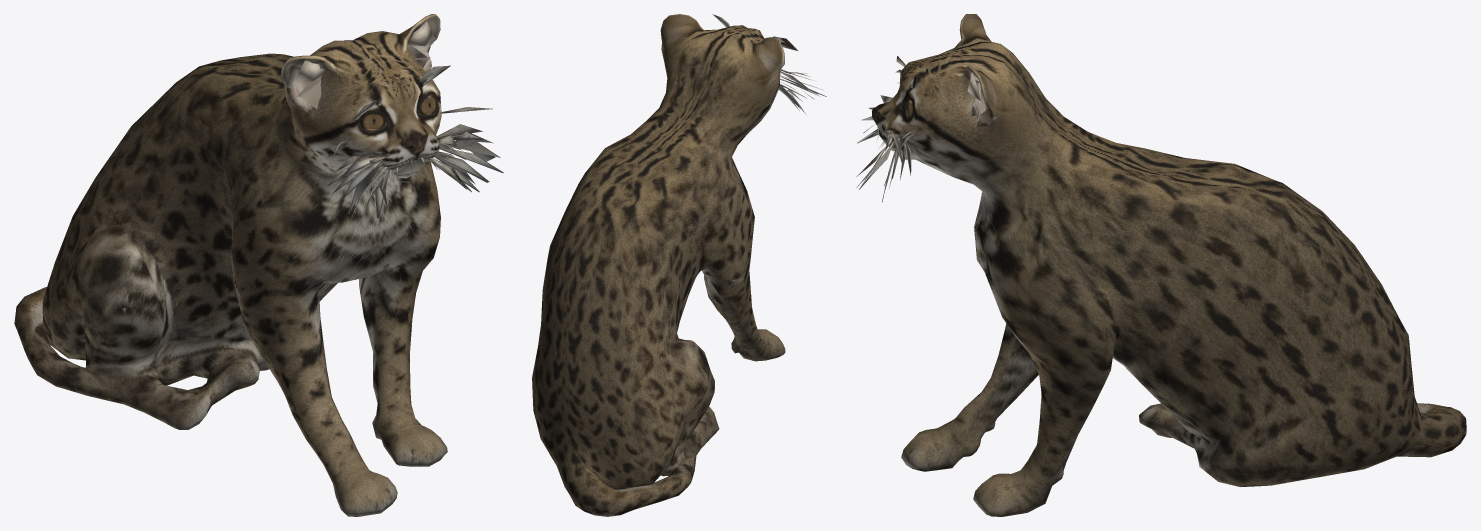
Rendered from gato_maracaja_novo.glb.
The picture shows the model from 3 angles, left to right: view 1: azimuth 30°, elevation 25°; view 2: azimuth 150°, elevation 25°; view 3: azimuth 270°, elevation 25°; orthographic projection. The views are drawn at different scales.
Bounding box in the file's own units: 0.4556 × 0.7617 × 0.9575.
1 material, 1 textured.
